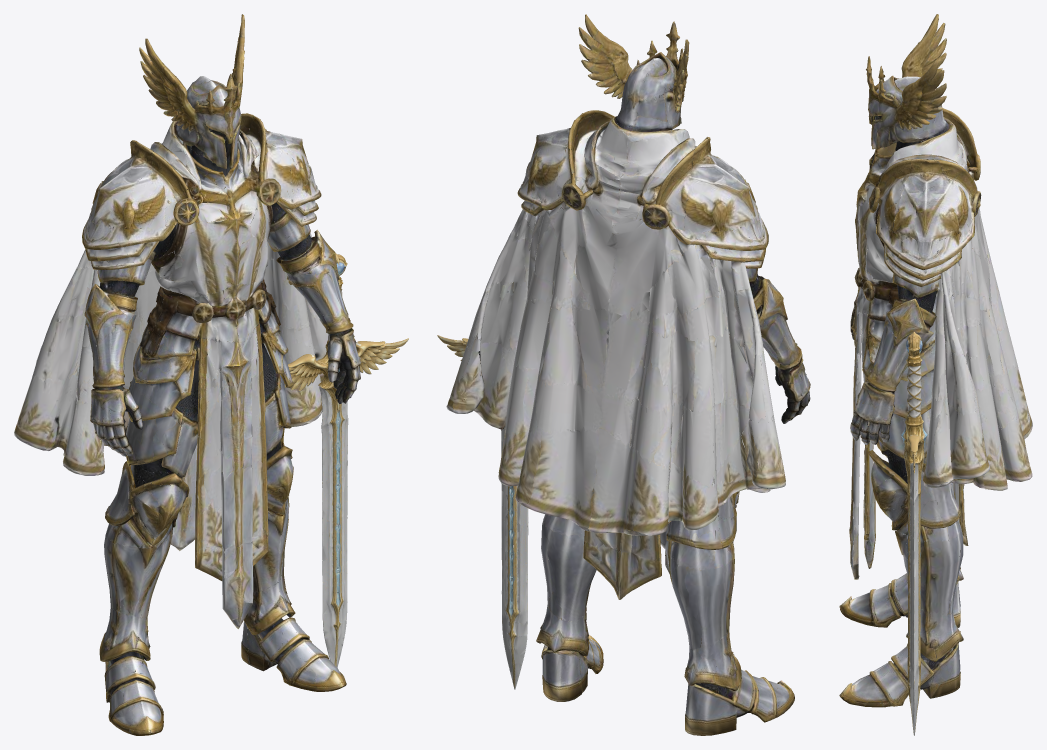
File: white_king_armed.glb
3 views of the same model, side by side, from view 1: azimuth 30°, elevation 25°; view 2: azimuth 150°, elevation 25°; view 3: azimuth 270°, elevation 25° (orthographic). The views are drawn at different scales.
Parts seen in each view (by area): view 1: White_King, Greatsword; view 2: White_King, Greatsword; view 3: White_King, Greatsword.
Part boxes in pixels (left/top/right/bottom): White_King: left=14, top=14, right=361, bottom=735; Greatsword: left=285, top=253, right=408, bottom=667; White_King: left=446, top=14, right=810, bottom=735; Greatsword: left=437, top=335, right=528, bottom=689; White_King: left=839, top=14, right=1032, bottom=707; Greatsword: left=901, top=332, right=927, bottom=735.
Bounding box in the file's own units: 1.1 × 1.96 × 0.5365.
Materials: 2 (2 with a texture image).
